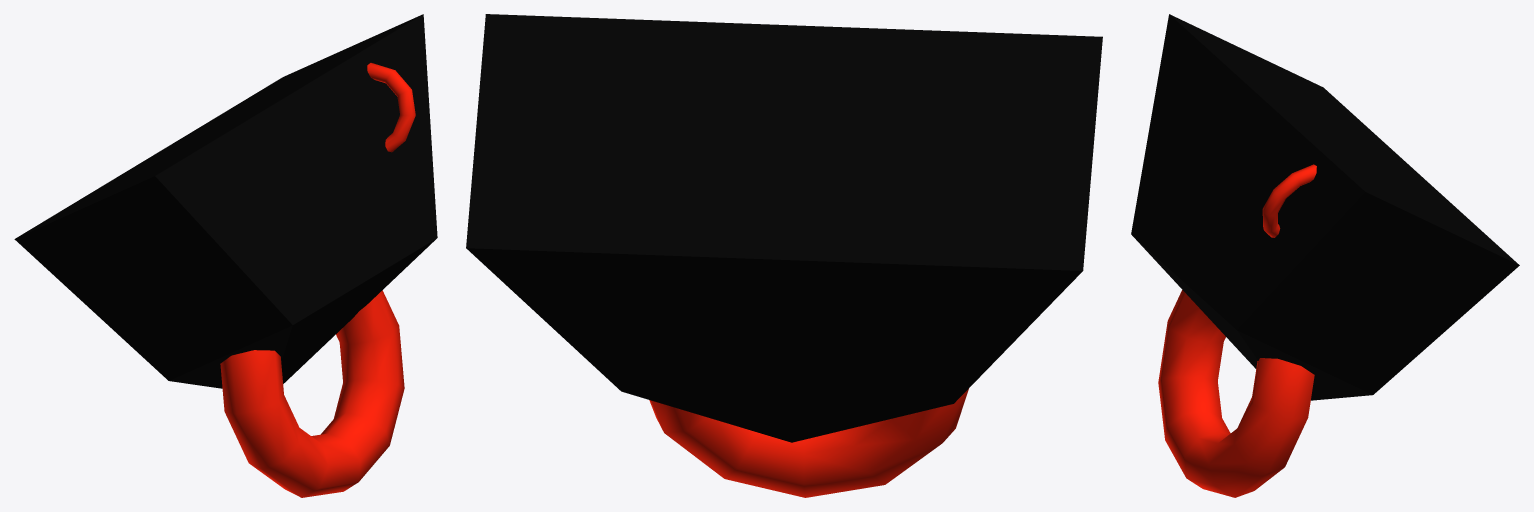
3 views of the same model, side by side, from view 1: azimuth 30°, elevation 25°; view 2: azimuth 150°, elevation 25°; view 3: azimuth 270°, elevation 25° (orthographic). The views are drawn at different scales.
Visible parts, largest first — view 1: 367, nose_ring_01, nose_ring_02; view 2: 367, nose_ring_01; view 3: 367, nose_ring_01, nose_ring_02.
Boxes of the visible parts, x1,y1,x2,y2 form: 367: (14,14,437,388); nose_ring_01: (220,290,404,497); nose_ring_02: (367,63,415,152); 367: (466,14,1102,442); nose_ring_01: (649,388,968,497); 367: (1131,14,1519,400); nose_ring_01: (1158,290,1314,497); nose_ring_02: (1262,164,1316,237).
Size of the model in its own units: 11.91 by 9.39 by 10.
